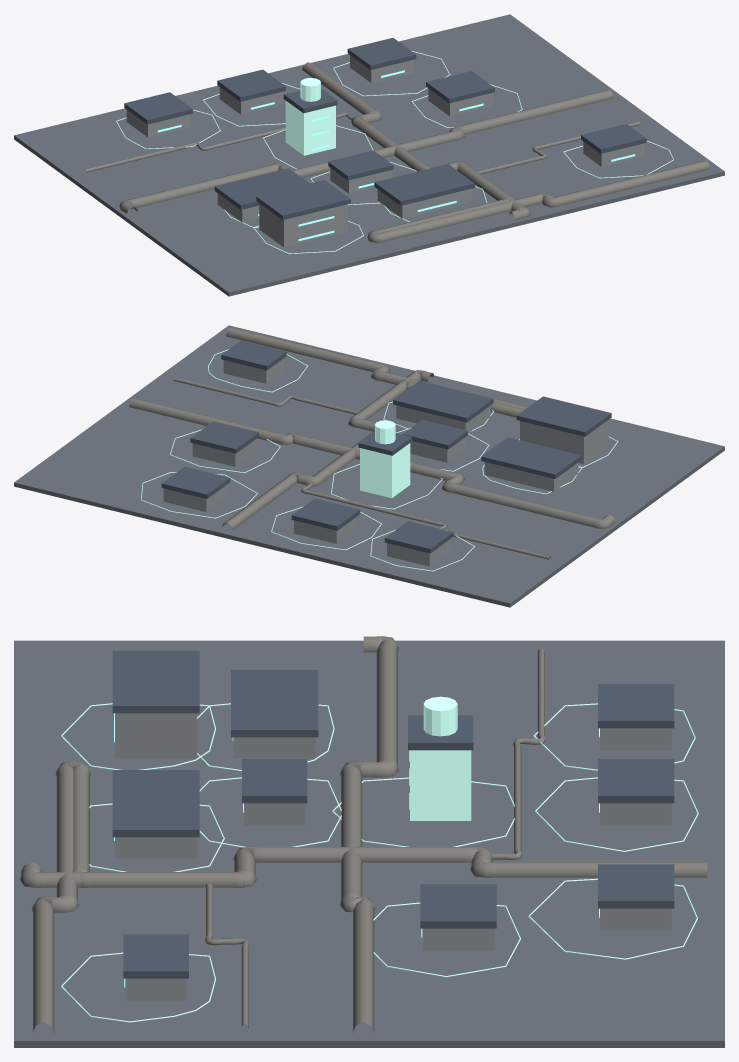
The picture shows the model from 3 angles, top to bottom: view 1: azimuth 30°, elevation 25°; view 2: azimuth 150°, elevation 25°; view 3: azimuth 270°, elevation 25°; orthographic projection. The views are drawn at different scales.
Parts seen in each view (by area): view 1: ProfileGround, Road_main_spine, Road_waterfront_route, Road_cross_spine, Roof_warehouse_03, Building_pump_house_08, Roof_pump_house_08, Building_tower_01, Roof_warehouse_06, Roof_inn_07, Roof_inn_04, Roof_inn_05 (+15 smaller); view 2: ProfileGround, Road_main_spine, Road_cross_spine, Road_waterfront_route, Roof_warehouse_03, Roof_warehouse_06, Roof_pump_house_08, Building_tower_01, Building_pump_house_08, Roof_inn_04, Roof_inn_07, Roof_inn_09 (+15 smaller); view 3: ProfileGround, Road_cross_spine, Road_main_spine, Road_waterfront_route, Roof_warehouse_03, Roof_warehouse_06, Roof_pump_house_08, Building_tower_01, Building_pump_house_08, Roof_inn_05, Roof_inn_07, Roof_inn_04 (+15 smaller).
Boxes of the visible parts, box(x1,y1,x2,y2) form: ProfileGround: box(14, 14, 724, 296); Road_main_spine: box(119, 90, 613, 213); Road_waterfront_route: box(367, 160, 709, 243); Road_cross_spine: box(302, 62, 530, 220); Roof_warehouse_03: box(374, 164, 474, 205); Building_pump_house_08: box(259, 203, 347, 247); Roof_pump_house_08: box(256, 179, 350, 219); Building_tower_01: box(285, 100, 335, 155); Roof_warehouse_06: box(214, 168, 308, 209); Roof_inn_07: box(347, 38, 416, 69); Roof_inn_04: box(217, 69, 285, 101); Roof_inn_05: box(426, 71, 494, 103); ProfileGround: box(14, 325, 724, 607); Road_main_spine: box(129, 398, 615, 528); Road_cross_spine: box(221, 370, 434, 530); Road_waterfront_route: box(226, 327, 527, 421); Roof_warehouse_03: box(393, 381, 493, 422); Roof_warehouse_06: box(481, 437, 581, 478); Roof_pump_house_08: box(516, 396, 611, 436); Building_tower_01: box(360, 443, 410, 498); Building_pump_house_08: box(520, 420, 608, 464); Roof_inn_04: box(291, 498, 360, 530); Roof_inn_07: box(161, 466, 230, 498); Roof_inn_09: box(384, 521, 453, 553); ProfileGround: box(14, 640, 724, 1047); Road_cross_spine: box(20, 846, 707, 887); Road_main_spine: box(340, 636, 398, 1033); Road_waterfront_route: box(31, 761, 244, 1032); Roof_warehouse_03: box(112, 770, 199, 837); Roof_warehouse_06: box(231, 670, 318, 737); Roof_pump_house_08: box(112, 650, 199, 713); Building_tower_01: box(410, 750, 471, 820); Building_pump_house_08: box(115, 713, 196, 758); Roof_inn_05: box(420, 884, 496, 928); Roof_inn_07: box(598, 864, 674, 908); Roof_inn_04: box(598, 759, 674, 803).
Size of the model in its own units: 25.6 by 3.43 by 19.2.
